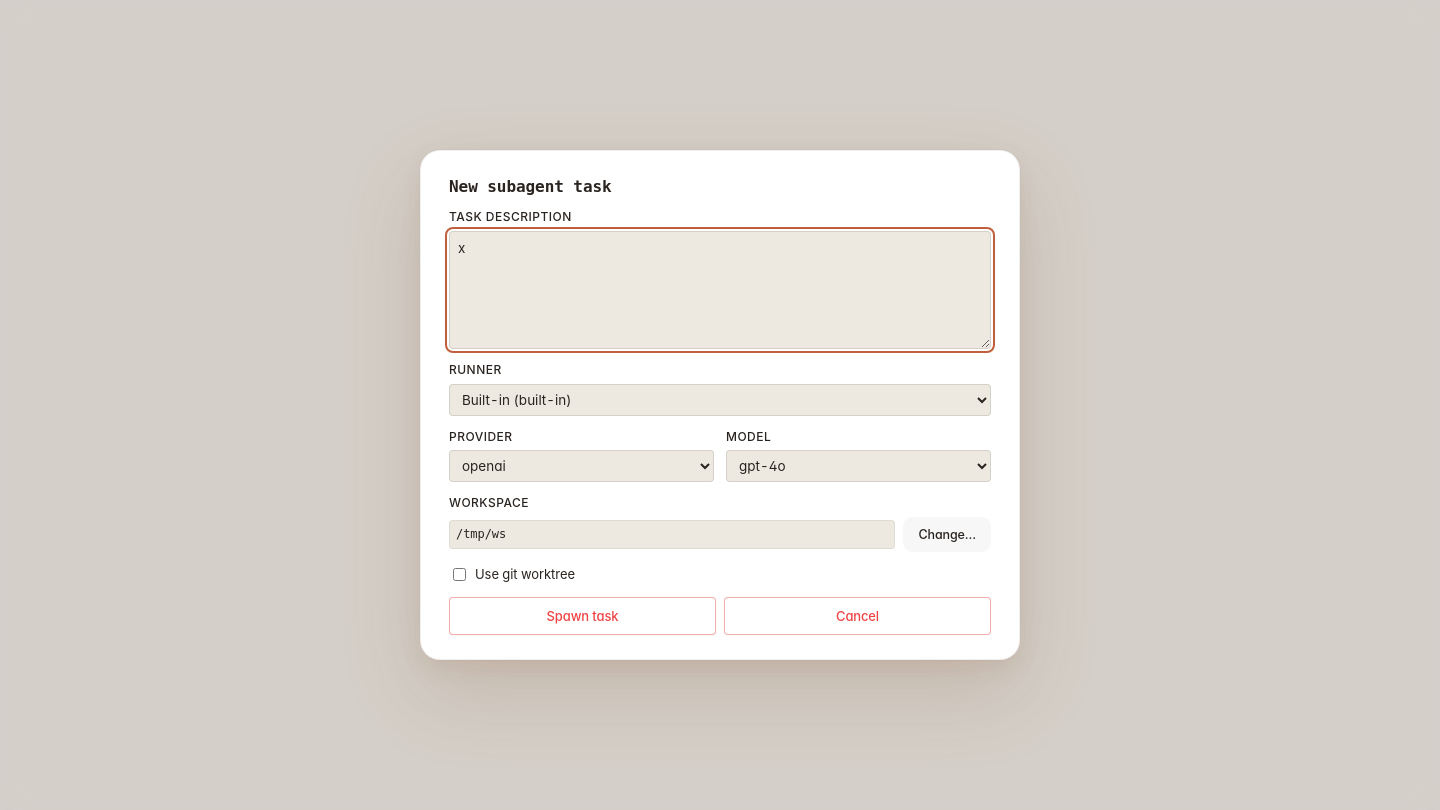
AgentSpawnModal › restores provider + model and unlocks worktree when switching back to internal
Step 1. Select "Claude Code (@opencodex/runner-claude-code) — Installed ✓" in the dropdown labelled "Runner" → (720, 400), box [449,384,991,416]
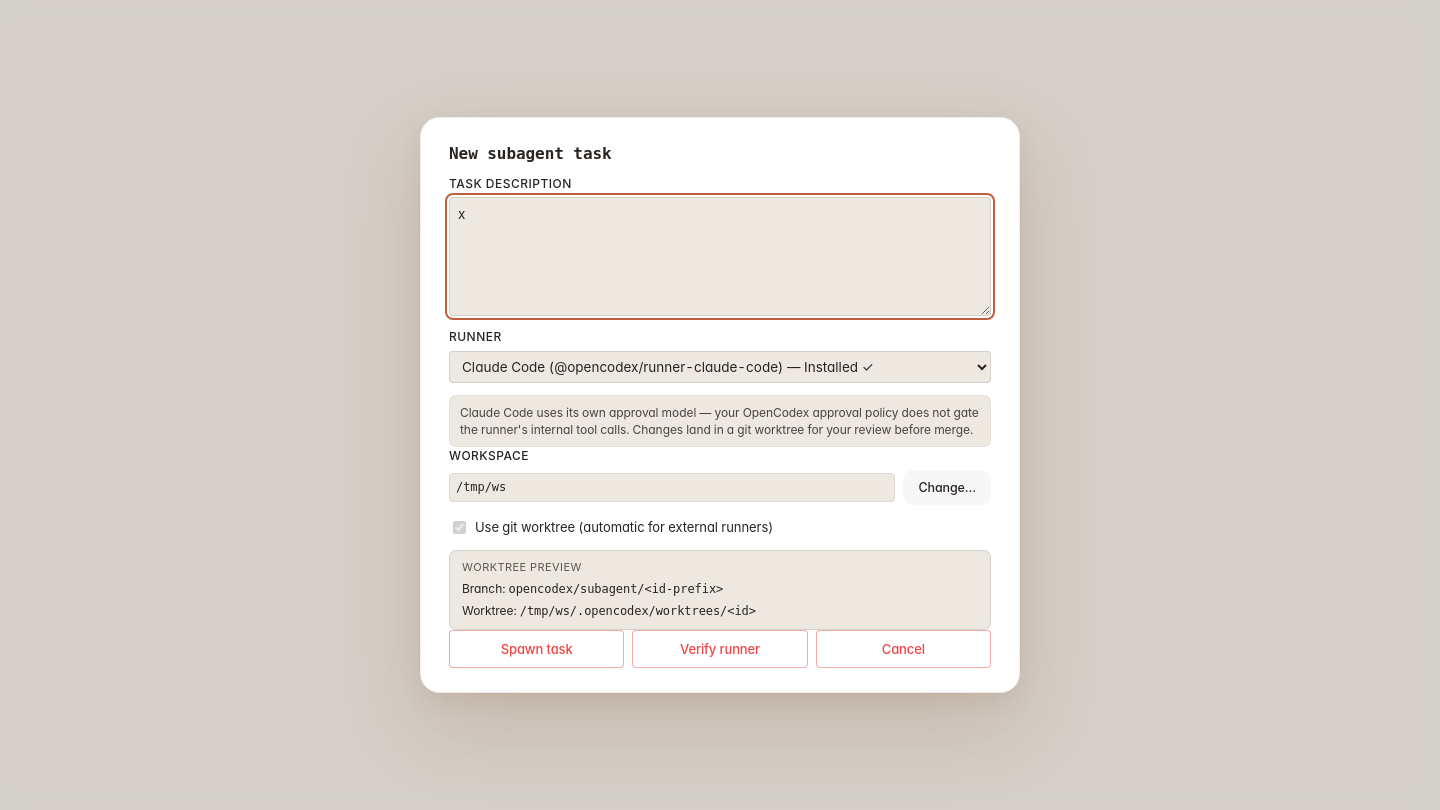
Step 2. Select "Built-in (built-in)" in the dropdown → (720, 367), box [449,351,991,383]
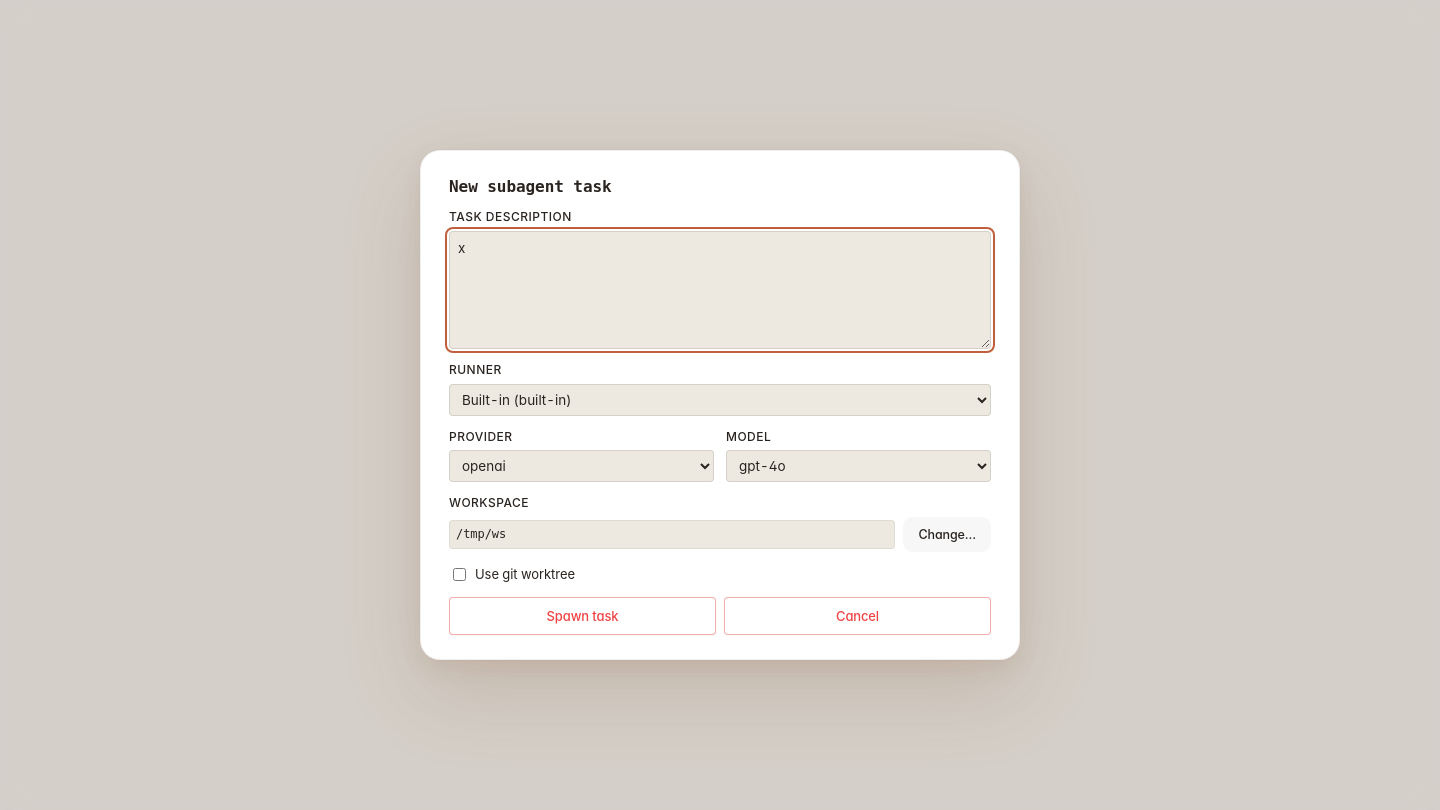
Now the text "Provider" is shown, box [449,429,512,444]
Now the checkbox is enabled, box [453,568,466,581]
